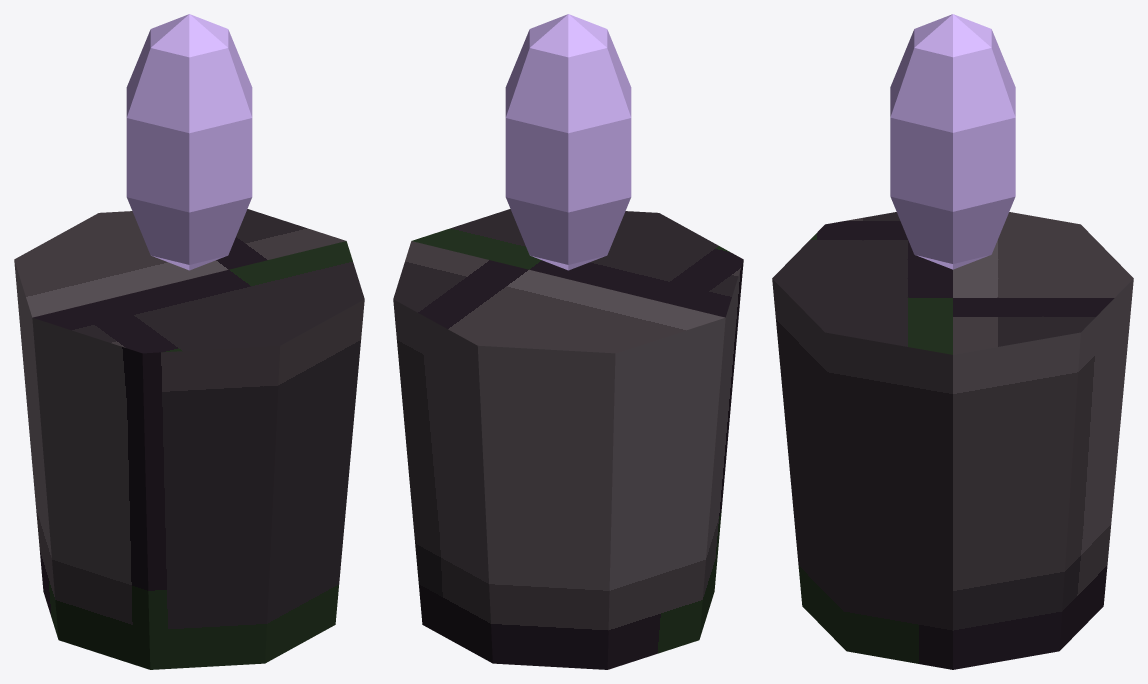
Rendered from soul_glass.glb.
3 views of the same model, side by side, from view 1: azimuth 30°, elevation 25°; view 2: azimuth 150°, elevation 25°; view 3: azimuth 270°, elevation 25° (orthographic).
Visible parts, largest first — view 1: soul_glass; view 2: soul_glass; view 3: soul_glass.
Part boxes in pixels (bbox=[...]): soul_glass: bbox=[14, 14, 364, 669]; soul_glass: bbox=[393, 14, 743, 669]; soul_glass: bbox=[772, 14, 1133, 669].
Bounding box in the file's own units: 0.6 × 1.08 × 0.6.
2 materials, 1 textured.
